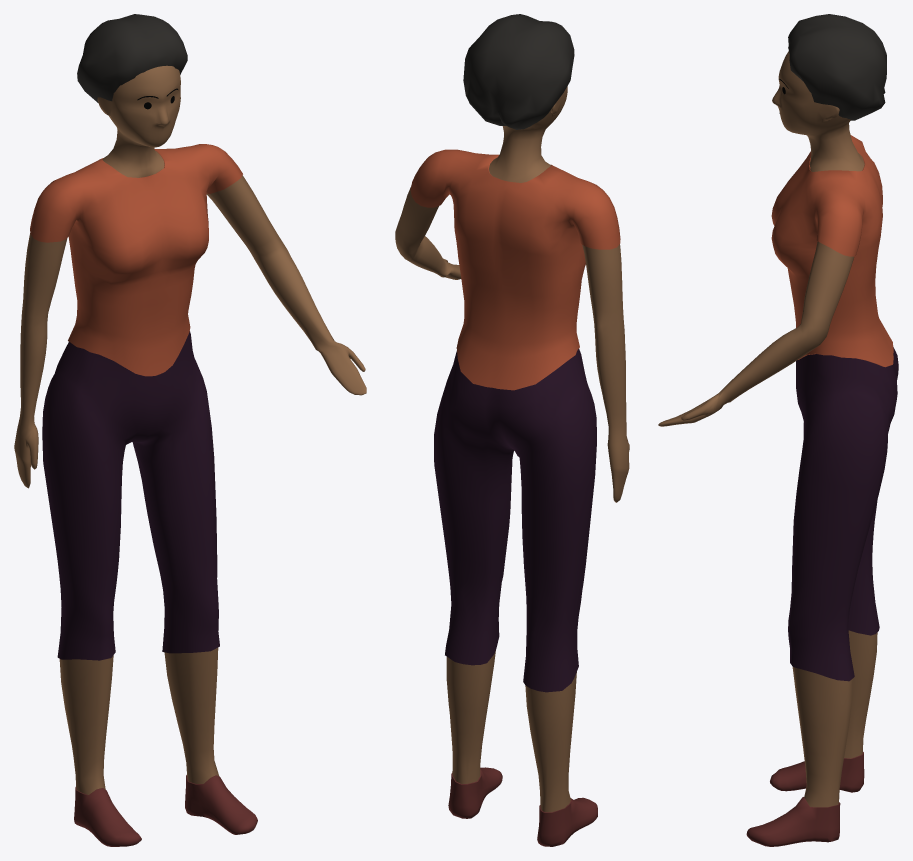
The model's file is Female_Talking_1.glb.
3 views of the same model, side by side, from view 1: azimuth 30°, elevation 25°; view 2: azimuth 150°, elevation 25°; view 3: azimuth 270°, elevation 25° (orthographic). The views are drawn at different scales.
Visible parts, largest first — view 1: Female-Talking-1; view 2: Female-Talking-1; view 3: Female-Talking-1.
Part boxes in pixels (<box>): Female-Talking-1: <box>14,14,366,846</box>; Female-Talking-1: <box>395,14,629,846</box>; Female-Talking-1: <box>658,14,898,846</box>.
Size of the model in its own units: 0.5856 by 1.7 by 0.4692.
